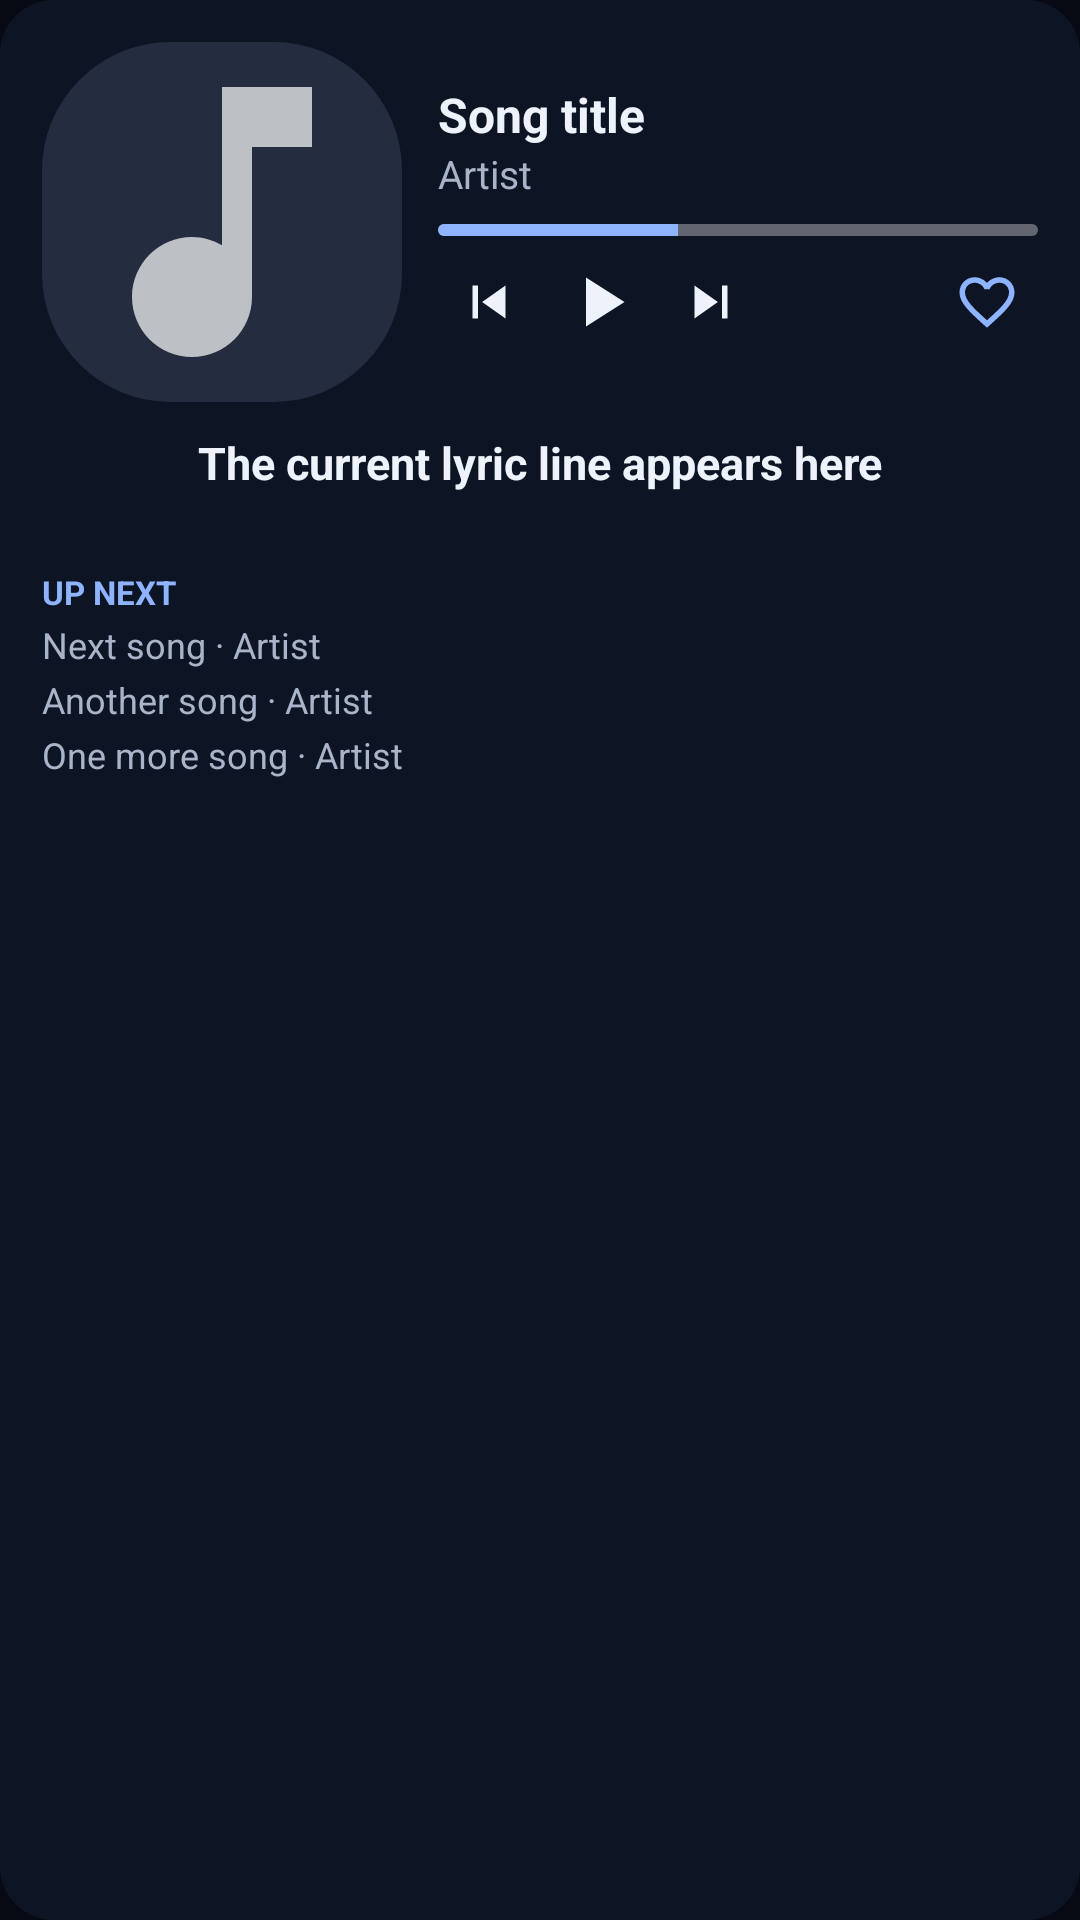

Screen size 1080×1920. Icon name, then its center in pixels as point (x, y):
widget heart: point (987, 302)
widget next: point (711, 302)
widget play: point (605, 302)
widget prev: point (489, 302)
